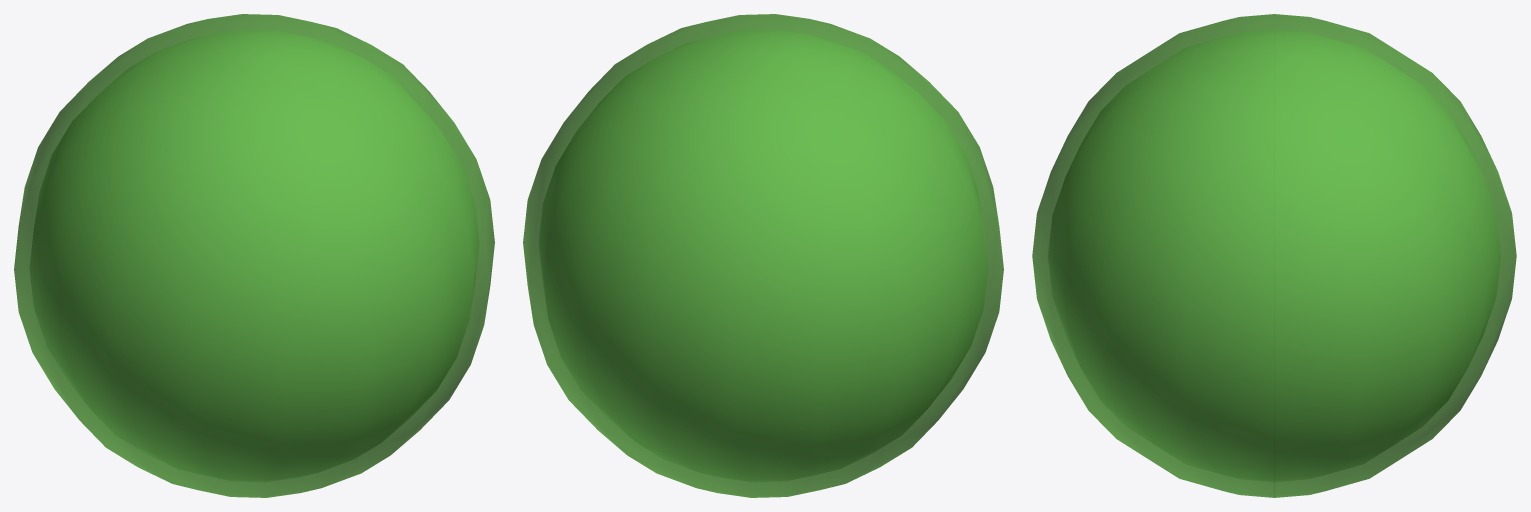
The model's file is Health_Regen_Sphere.fbx.
The picture shows the model from 3 angles, left to right: view 1: azimuth 30°, elevation 25°; view 2: azimuth 150°, elevation 25°; view 3: azimuth 270°, elevation 25°; orthographic projection.
Visible parts, largest first — view 1: pSphere1, pSphere2; view 2: pSphere1, pSphere2; view 3: pSphere1, pSphere2.
Boxes of the visible parts, left/top/right/bottom form: pSphere1: left=14, top=14, right=494, bottom=497; pSphere2: left=30, top=30, right=478, bottom=481; pSphere1: left=523, top=14, right=1003, bottom=497; pSphere2: left=539, top=30, right=987, bottom=481; pSphere1: left=1032, top=14, right=1516, bottom=497; pSphere2: left=1048, top=30, right=1500, bottom=481.
Size of the model in its own units: 2 by 2 by 2.
